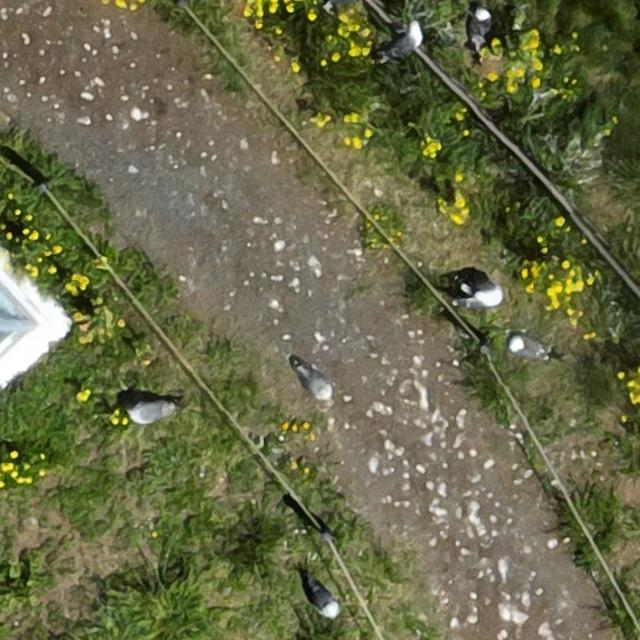umineko: (311, 582, 341, 622), (386, 22, 422, 55), (299, 368, 332, 398), (462, 286, 503, 308), (129, 402, 168, 423), (510, 337, 544, 357), (472, 7, 491, 42)
